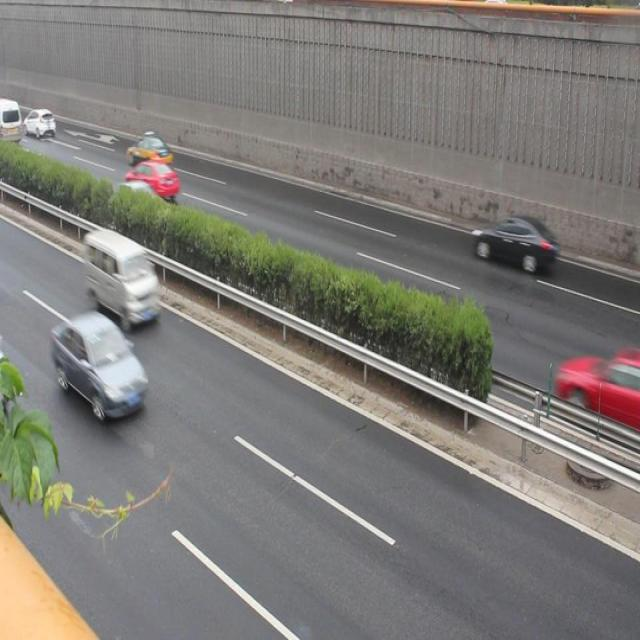car: (51, 314, 148, 424), (554, 349, 640, 435), (471, 212, 555, 273), (107, 182, 166, 228), (123, 160, 180, 198), (127, 134, 173, 174)
truck: (82, 228, 161, 328)
